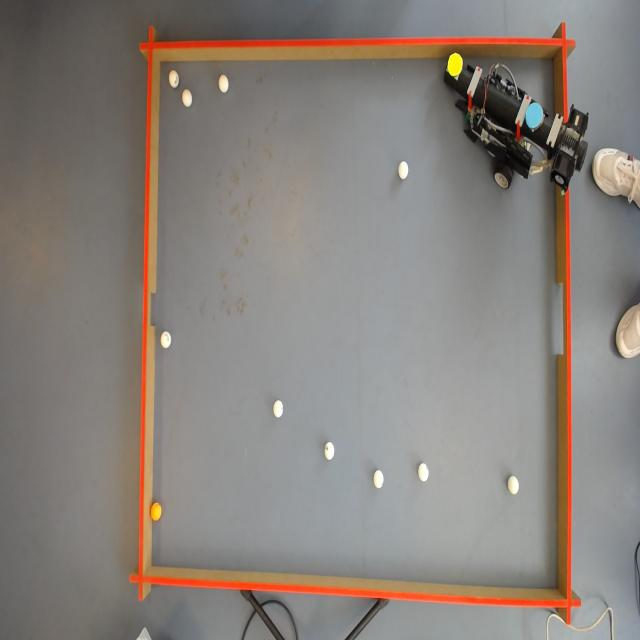orange: (151, 503, 164, 523)
robot: (442, 44, 598, 186)
robot-front: (448, 54, 462, 75)
robot-rear: (522, 101, 549, 132)
white: (507, 476, 521, 496), (372, 470, 384, 491), (219, 75, 232, 94), (398, 160, 410, 180), (182, 90, 195, 108), (272, 399, 284, 418), (168, 69, 180, 87), (418, 464, 430, 482), (323, 442, 334, 458), (160, 331, 170, 348)
